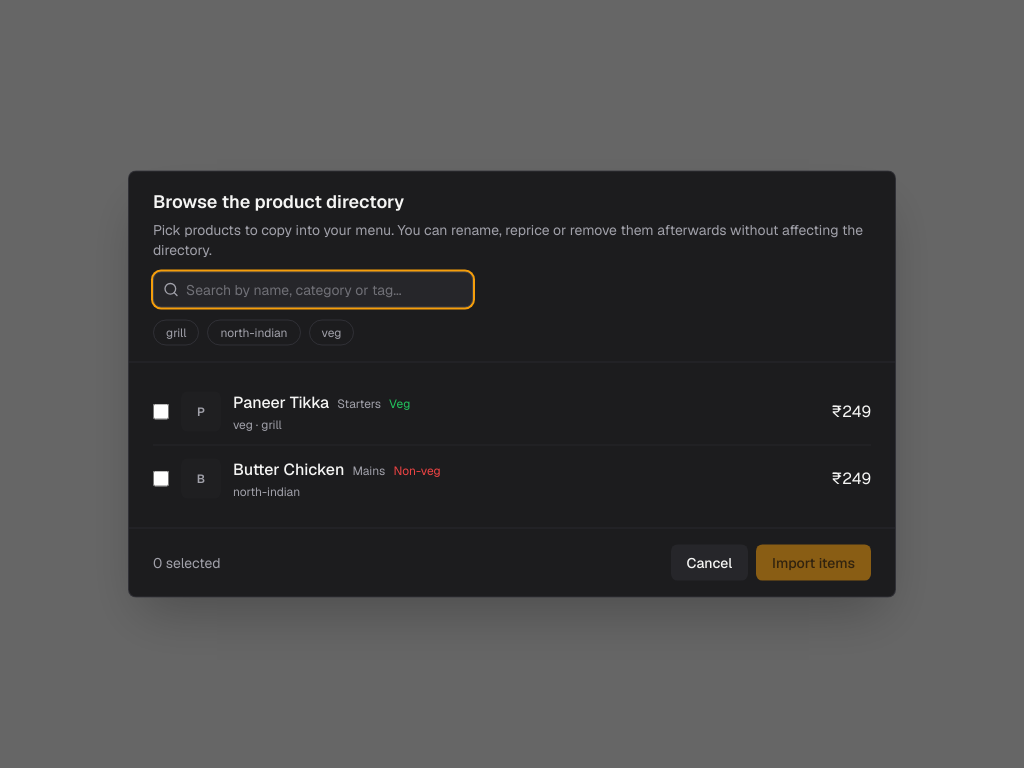
Test case: DirectoryDialog › surfaces the backend's conflict message and keeps the dialog open
Click the checkbox with test id "directory-select-p-paneer" at [161, 412], box [153,404,169,420]
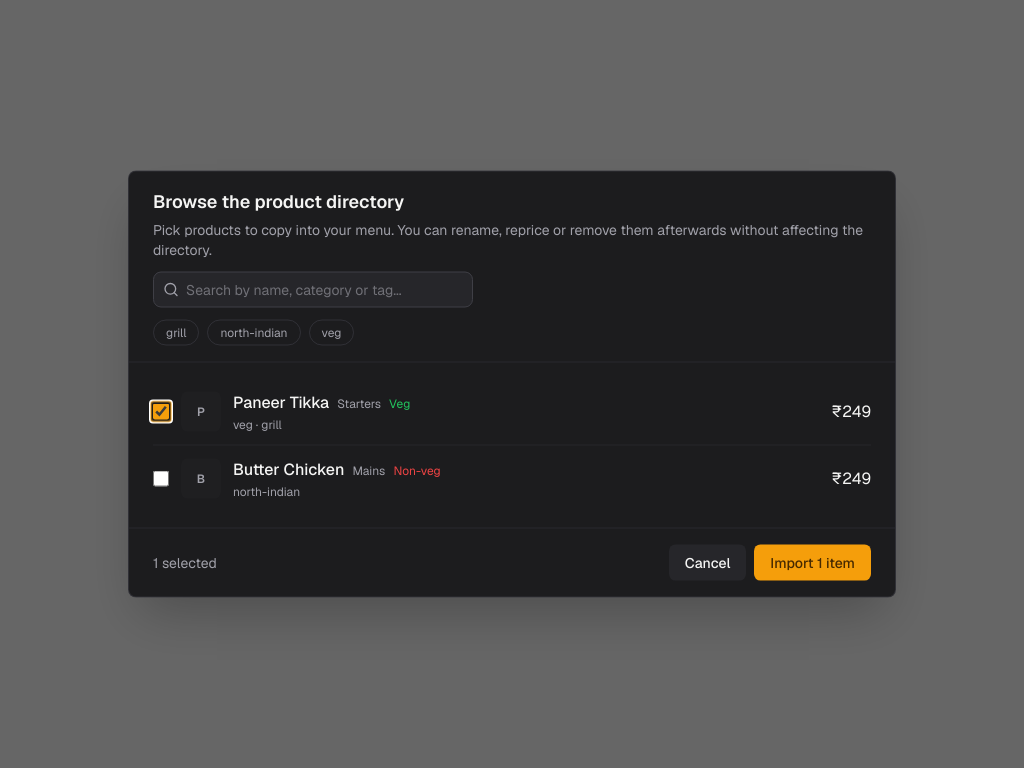
Click the button with test id "directory-import" at [813, 562], box [754,544,871,580]
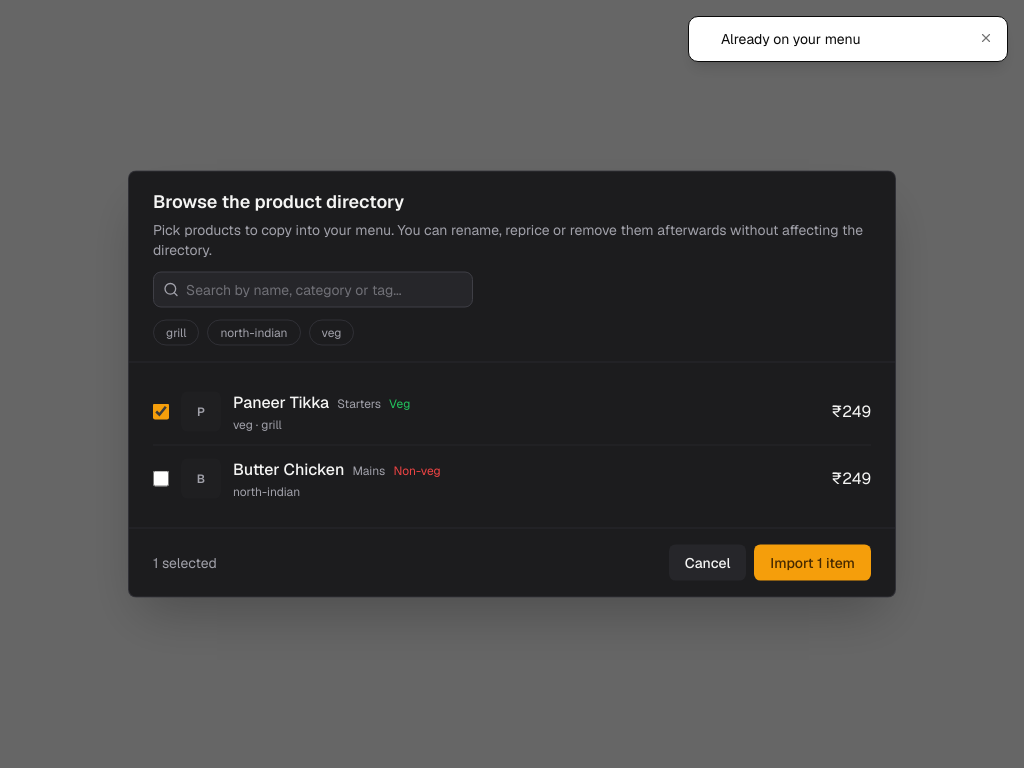
Expected: the dialog with test id "directory-dialog" is shown, [128,170,896,598]
Now the text "Already on your menu" is shown, box [721,30,860,48]
